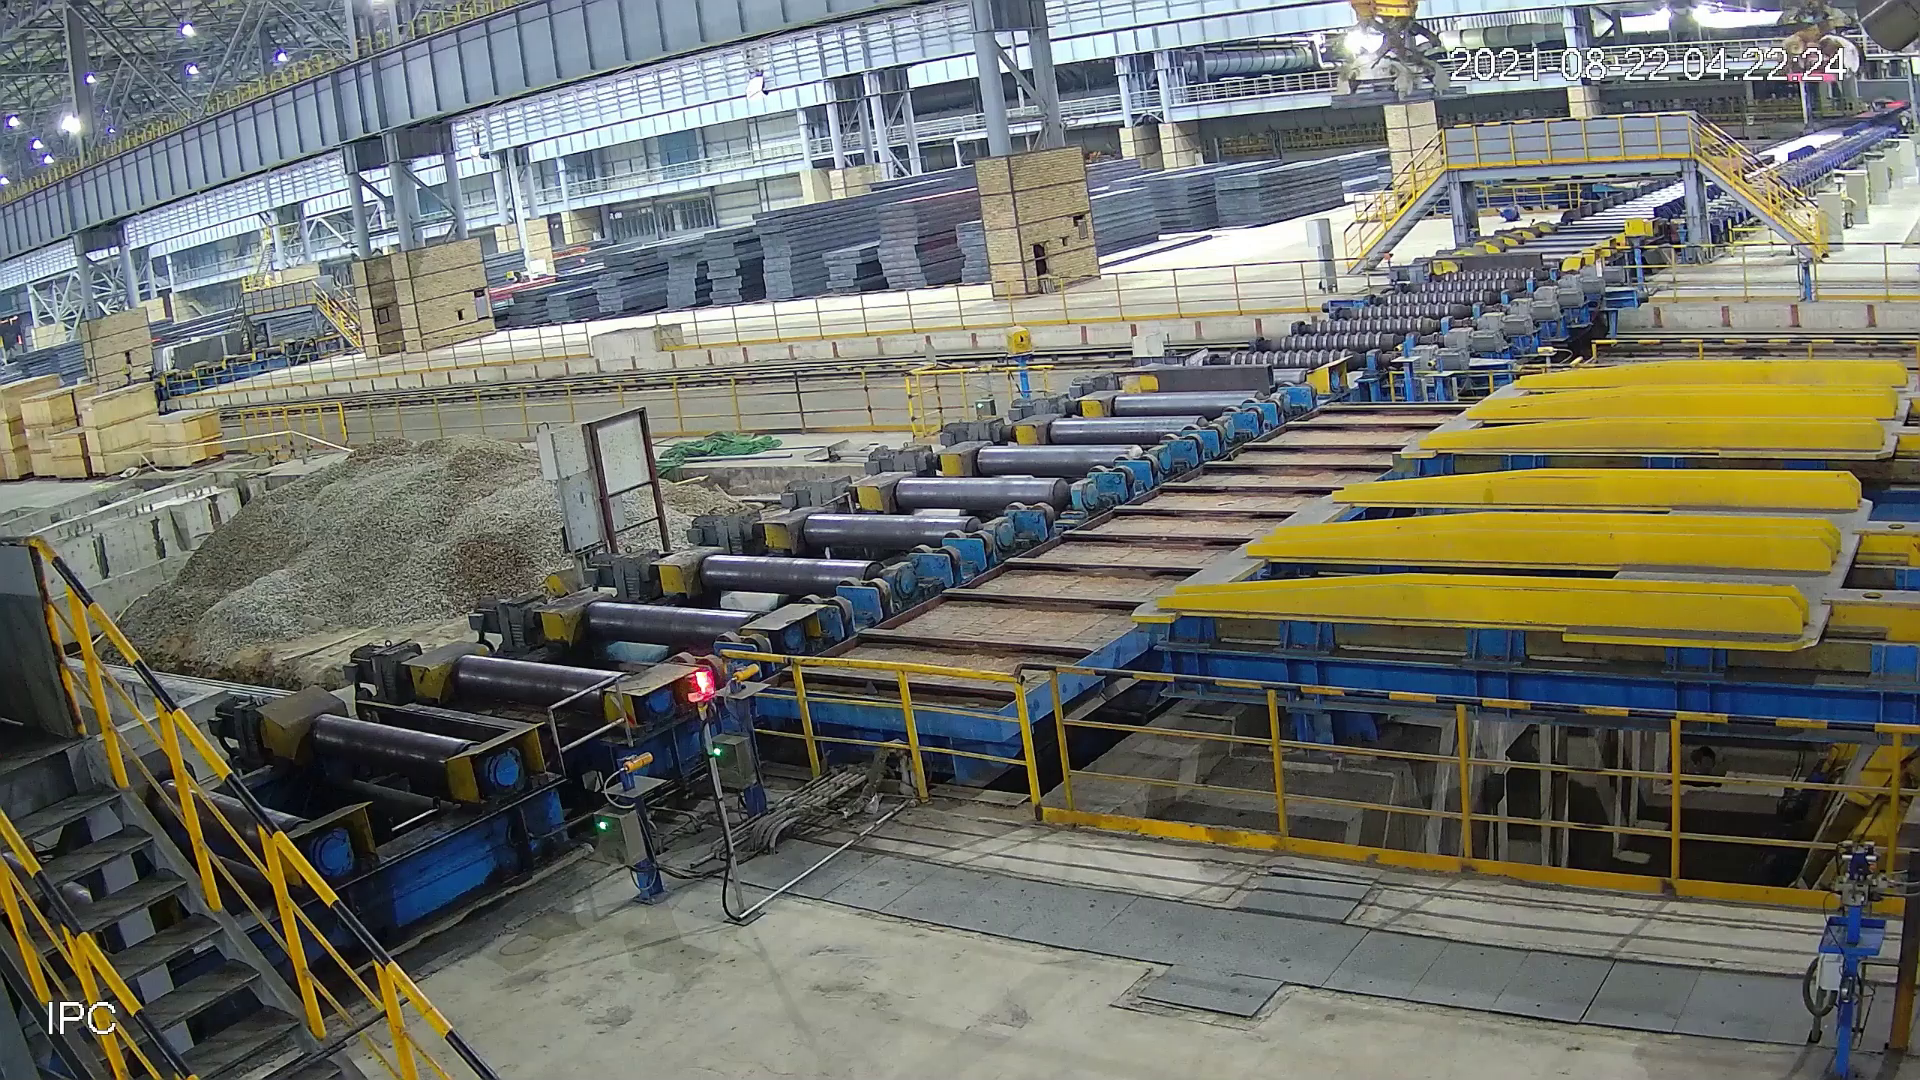craneandslab: (1324, 7, 1476, 115), (1755, 1, 1876, 92)
